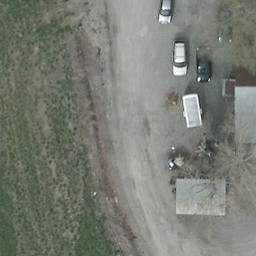camping car: (182, 95, 202, 129)
car: (194, 45, 214, 84), (214, 8, 235, 43), (173, 43, 187, 77), (160, 0, 176, 27)
